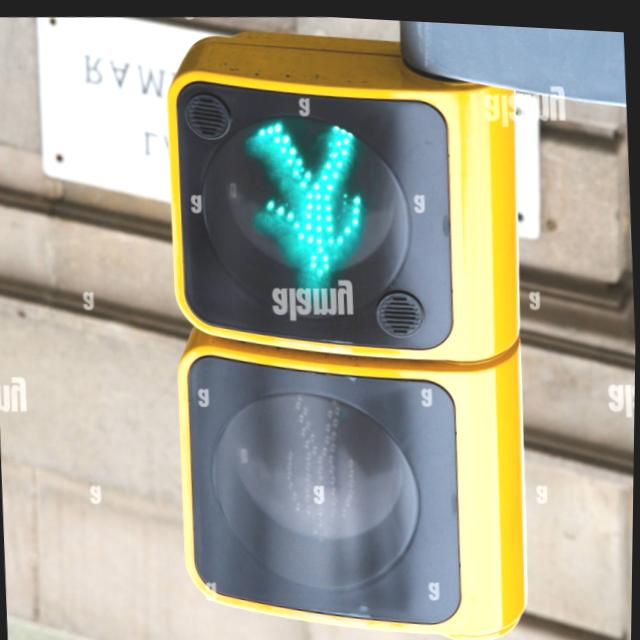green_light: (257, 116, 368, 289)
